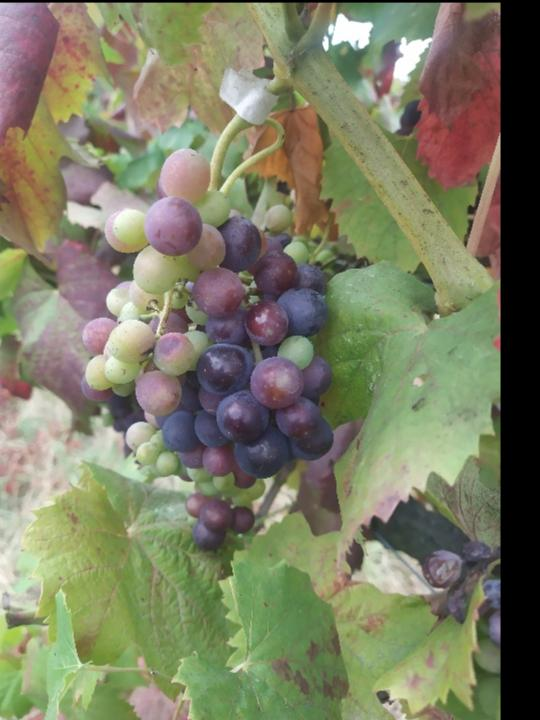grape: (79, 142, 344, 551)
